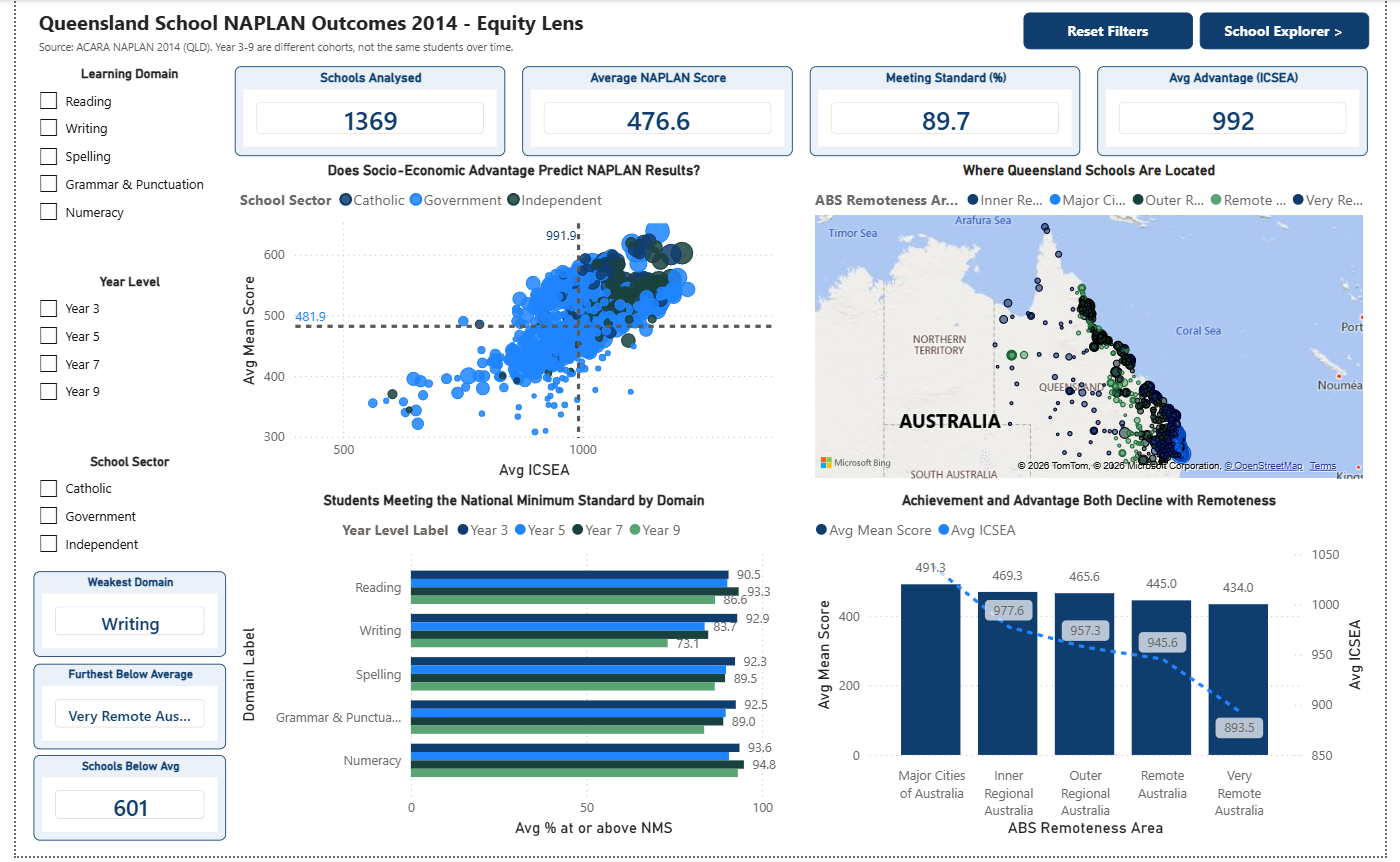

What the dashboard file says about the page in this screenshot:
{"tool":"powerbi","page":{"name":"Overview","canvas":[1280,800],"ordinal":0},"visuals":[{"type":"textbox","box":[16,4,700,54],"z":0},{"type":"cardVisual","title":"Weakest Domain","fields":{"Data":["NAPLAN_Scores.Lowest Scoring Domain"]},"box":[16,534,180,80],"z":14},{"type":"cardVisual","title":"Furthest Below Average","fields":{"Data":["NAPLAN_Scores.Furthest Below State Average"]},"box":[16,620,180,80],"z":15},{"type":"cardVisual","title":"Schools Below Avg","fields":{"Data":["NAPLAN_Scores.Schools Below State Average"]},"box":[16,706,180,80],"z":16},{"type":"listSlicer","title":"Learning Domain","fields":{"Values":["NAPLAN_Scores.Domain Label"]},"box":[16,62,180,186],"z":100},{"type":"listSlicer","title":"Year Level","fields":{"Values":["NAPLAN_Scores.Year Level Label"]},"box":[16,256,180,160],"z":200},{"type":"listSlicer","title":"School Sector","fields":{"Values":["School_Locations.School Sector"]},"box":[16,424,180,104],"z":300},{"type":"scatterChart","title":"Does Socio-Economic Advantage Predict NAPLAN Results?","fields":{"Category":["School_Locations.ACARA SML ID"],"Series":["School_Locations.School Sector"],"Size":["NAPLAN_Scores.Students Tested"],"X":["NAPLAN_Scores.Avg ICSEA"],"Y":["NAPLAN_Scores.Avg Mean Score"]},"box":[204,152,522,300],"z":400},{"type":"map","title":"Where Queensland Schools Are Located","fields":{"Series":["School_Locations.ABS Remoteness Area"],"Size":["NAPLAN_Scores.Students Tested"],"X":["School_Locations.Longitude"],"Y":["School_Locations.Latitude"]},"box":[742,152,522,300],"z":500},{"type":"clusteredBarChart","title":"Students Meeting the National Minimum Standard by Domain","fields":{"Category":["NAPLAN_Scores.Domain Label"],"Series":["NAPLAN_Scores.Year Level Label"],"Y":["NAPLAN_Scores.Avg % at or above NMS"]},"box":[204,460,522,326],"z":600},{"type":"lineStackedColumnComboChart","title":"Achievement and Advantage Both Decline with Remoteness","fields":{"Category":["School_Locations.ABS Remoteness Area"],"Y":["NAPLAN_Scores.Avg Mean Score"],"Y2":["NAPLAN_Scores.Avg ICSEA"]},"box":[742,460,522,326],"z":700},{"type":"cardVisual","title":"Schools Analysed","fields":{"Data":["NAPLAN_Scores.School Count"]},"box":[204,62,253,84],"z":1000},{"type":"cardVisual","title":"Average NAPLAN Score","fields":{"Data":["NAPLAN_Scores.Avg Mean Score"]},"box":[473,62,253,84],"z":1001},{"type":"cardVisual","title":"Meeting Standard (%)","fields":{"Data":["NAPLAN_Scores.Avg % at or above NMS"]},"box":[742,62,253,84],"z":1002},{"type":"cardVisual","title":"Avg Advantage (ICSEA)","fields":{"Data":["NAPLAN_Scores.Avg ICSEA"]},"box":[1011,62,253,84],"z":1003},{"type":"actionButton","box":[1106,12,158,34],"z":1004},{"type":"actionButton","box":[942,12,158,34],"z":2000}]}

Visuals, with their boxes in screenshot pixels (x1, y1, x2, y2), scaled from the page's 1280x800 canvas onto the 1400x862 screenshot:
textbox: Rect(18, 4, 783, 62)
"Weakest Domain" cardVisual: Rect(18, 575, 214, 662)
"Furthest Below Average" cardVisual: Rect(18, 668, 214, 754)
"Schools Below Avg" cardVisual: Rect(18, 761, 214, 847)
"Learning Domain" listSlicer: Rect(18, 67, 214, 267)
"Year Level" listSlicer: Rect(18, 276, 214, 448)
"School Sector" listSlicer: Rect(18, 457, 214, 569)
"Does Socio-Economic Advantage Predict NAPLAN Results?" scatterChart: Rect(223, 164, 794, 487)
"Where Queensland Schools Are Located" map: Rect(812, 164, 1382, 487)
"Students Meeting the National Minimum Standard by Domain" clusteredBarChart: Rect(223, 496, 794, 847)
"Achievement and Advantage Both Decline with Remoteness" lineStackedColumnComboChart: Rect(812, 496, 1382, 847)
"Schools Analysed" cardVisual: Rect(223, 67, 500, 157)
"Average NAPLAN Score" cardVisual: Rect(517, 67, 794, 157)
"Meeting Standard (%)" cardVisual: Rect(812, 67, 1088, 157)
"Avg Advantage (ICSEA)" cardVisual: Rect(1106, 67, 1382, 157)
actionButton: Rect(1210, 13, 1382, 50)
actionButton: Rect(1030, 13, 1203, 50)
